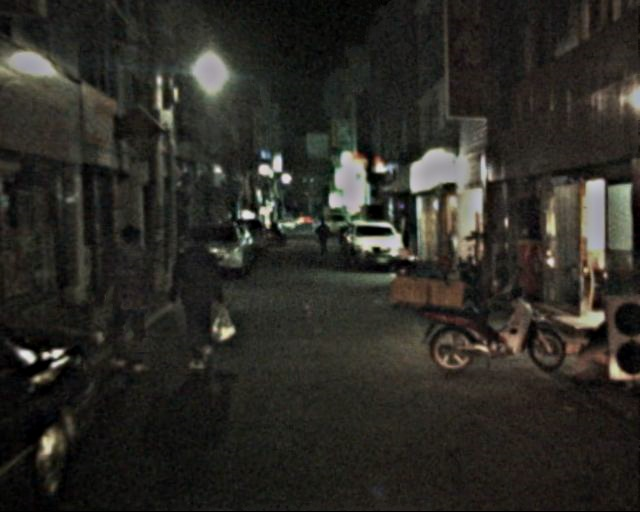person: (101, 224, 162, 369), (170, 226, 226, 370), (314, 218, 332, 258)
